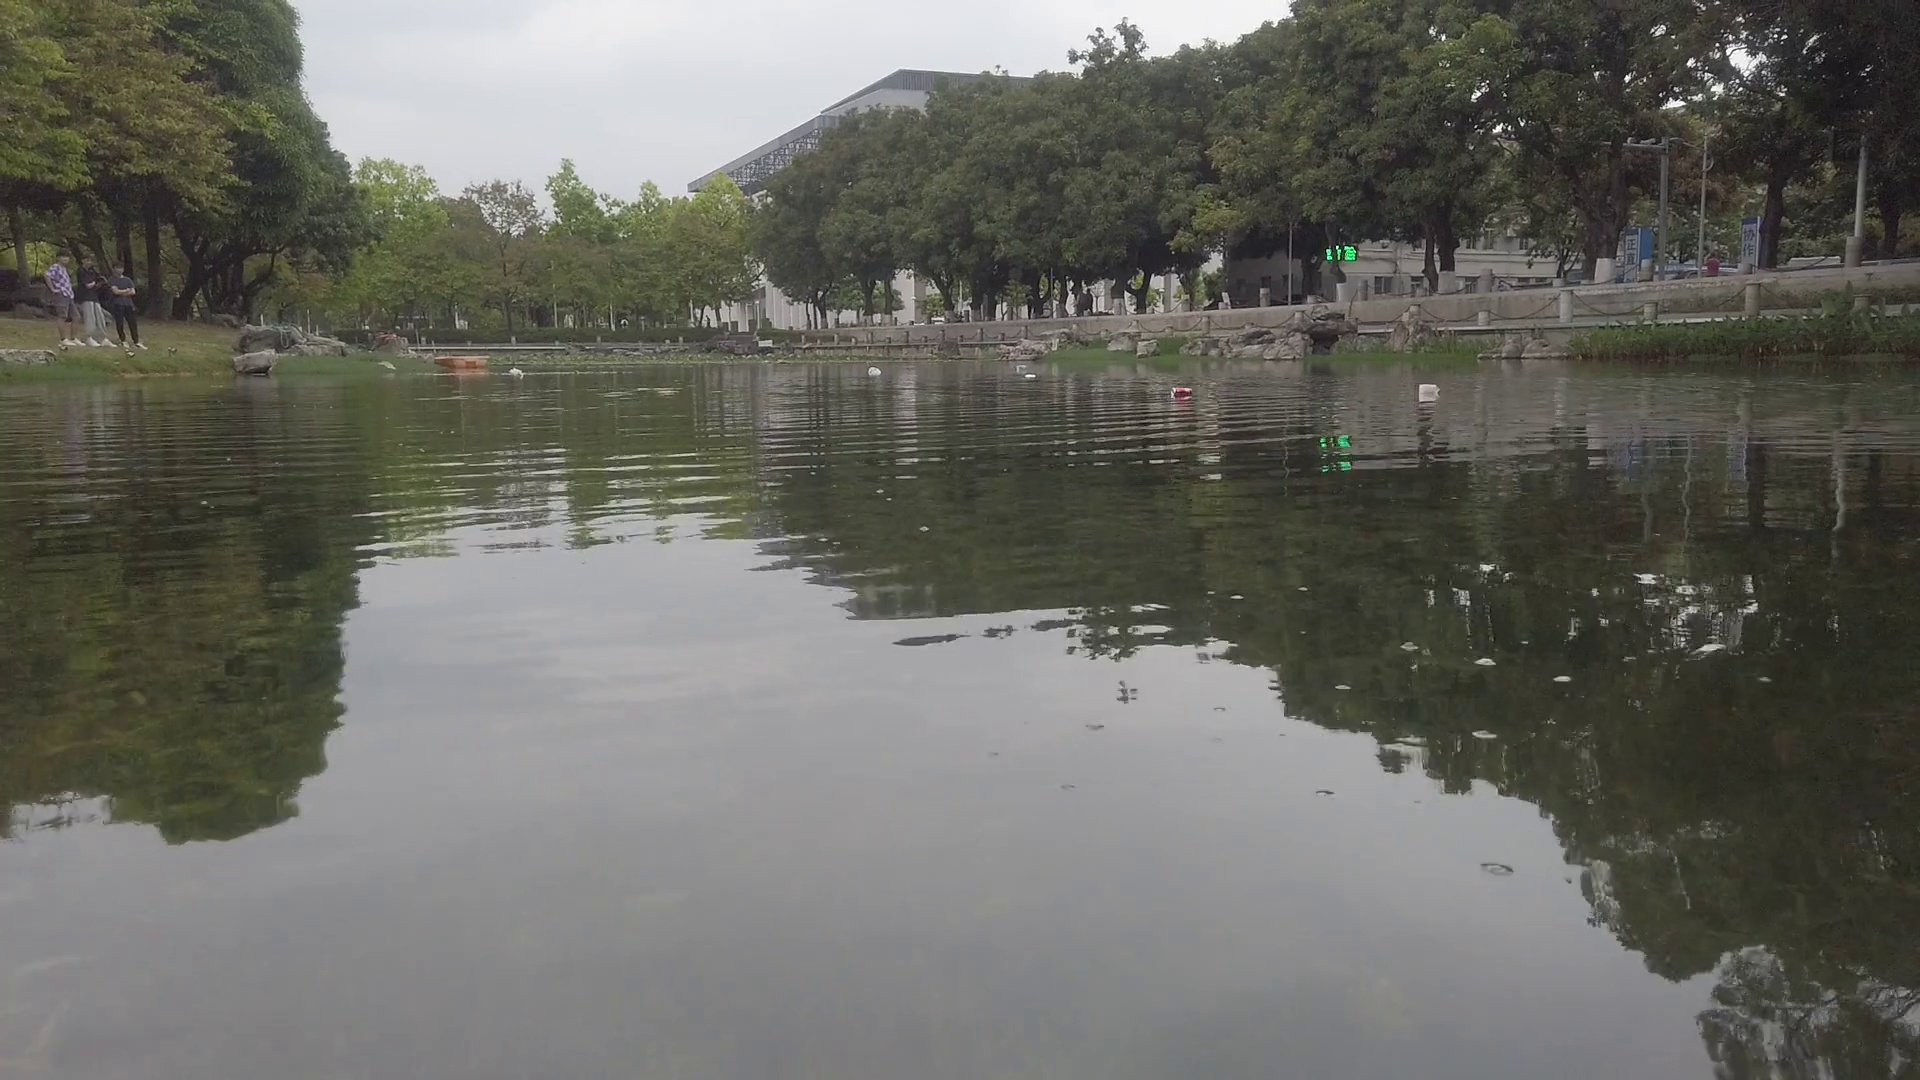bottle: (1171, 386, 1193, 397)
carton: (1419, 381, 1443, 396), (1015, 363, 1027, 372)
paper: (1026, 376, 1038, 378)
plastic: (868, 367, 881, 375), (508, 368, 524, 375)
